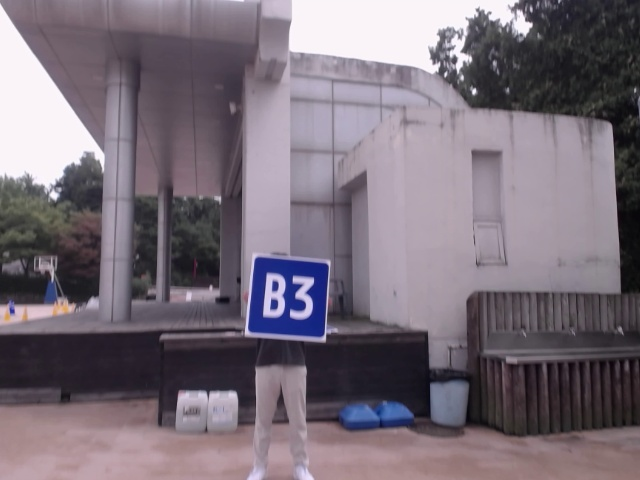delivery_b3: (249, 255, 328, 340)
